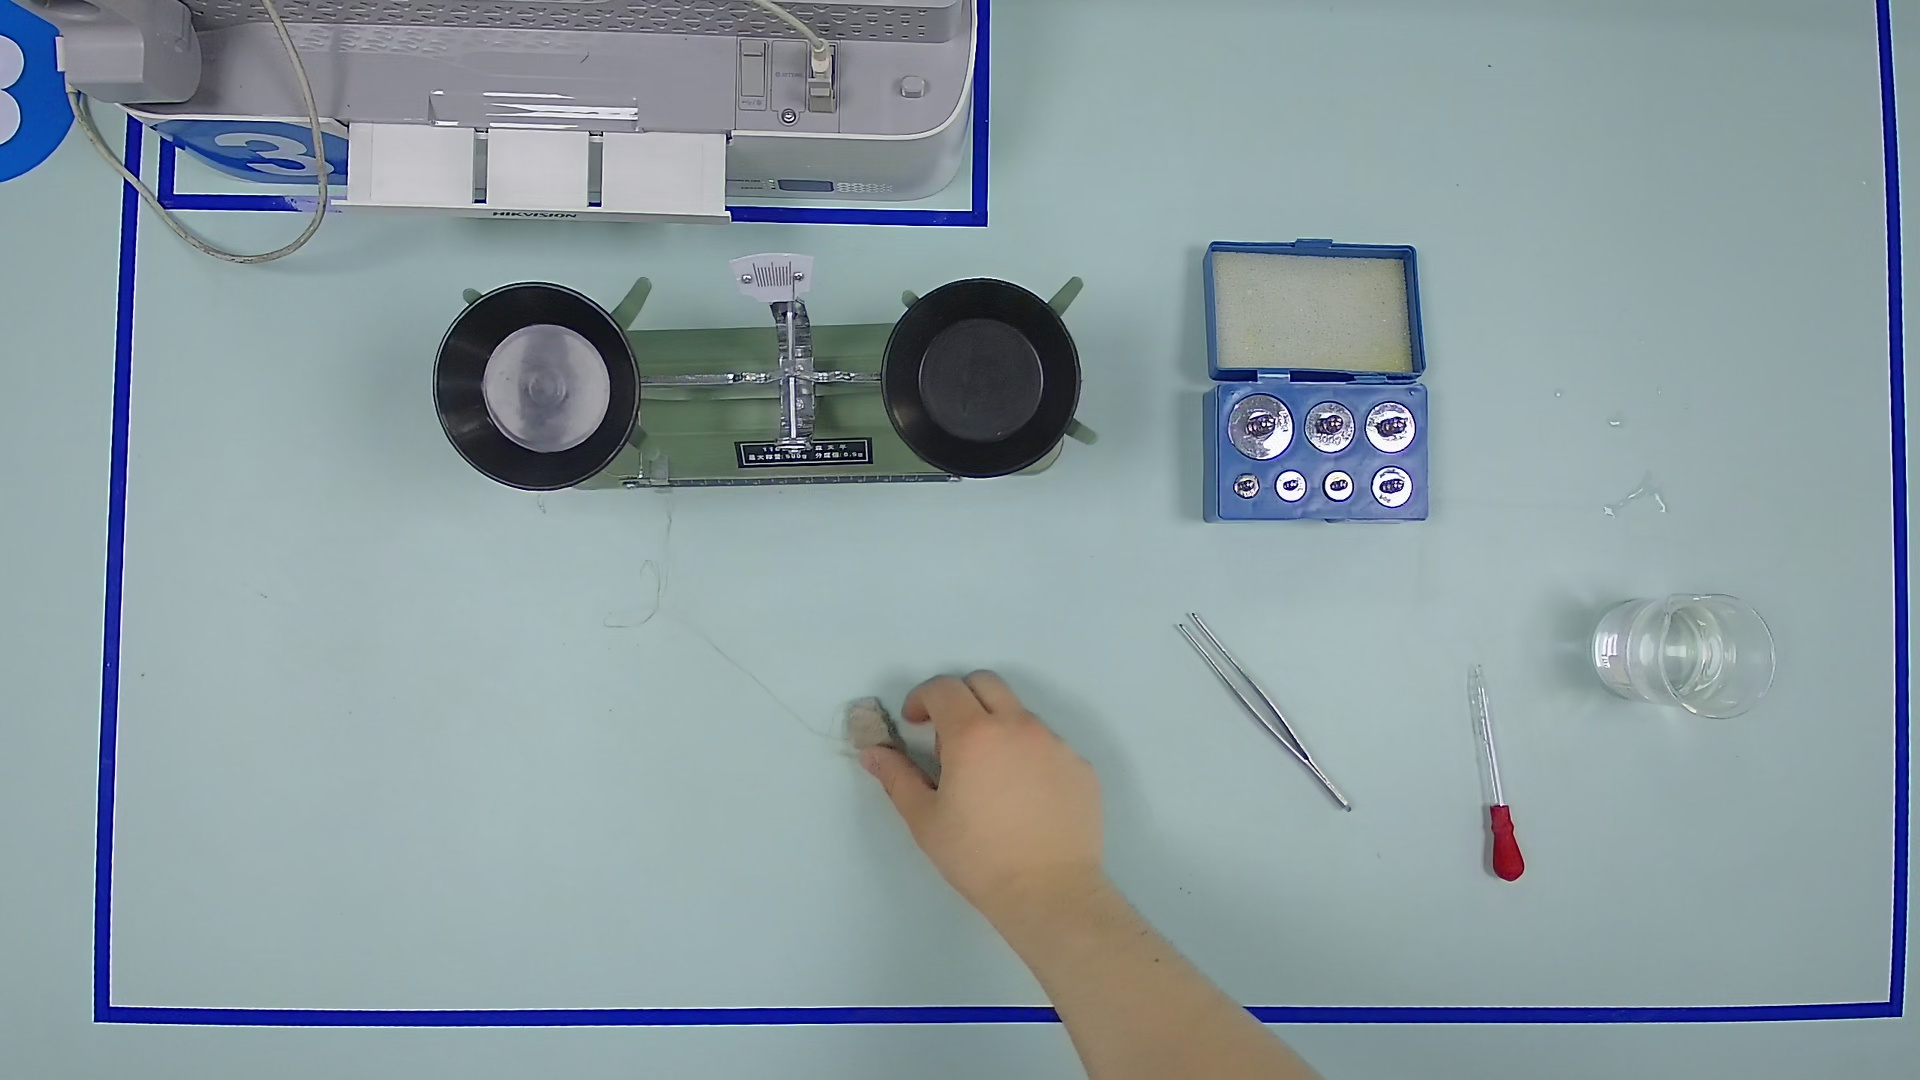bei: (1592, 574, 1776, 729)
diguan: (1433, 645, 1544, 895)
diguantou: (1474, 793, 1539, 890)
fama: (1226, 390, 1296, 462), (1302, 400, 1357, 454), (1364, 401, 1418, 454), (1369, 464, 1414, 510), (1321, 467, 1357, 502), (1274, 469, 1308, 502), (1232, 469, 1261, 498)
gan: (608, 444, 953, 517)
hand: (827, 622, 1137, 924)
he: (1163, 334, 1462, 549)
niezi: (1166, 595, 1364, 832)
pointer: (735, 249, 812, 301)
shi: (839, 687, 909, 770)
tuo: (414, 265, 663, 514), (861, 255, 1106, 506)
you: (644, 451, 678, 500)
